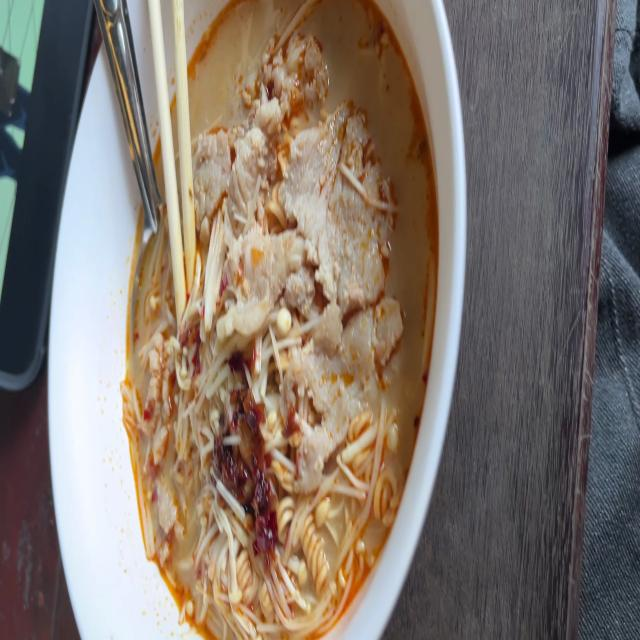noodle: (108, 0, 445, 640)
